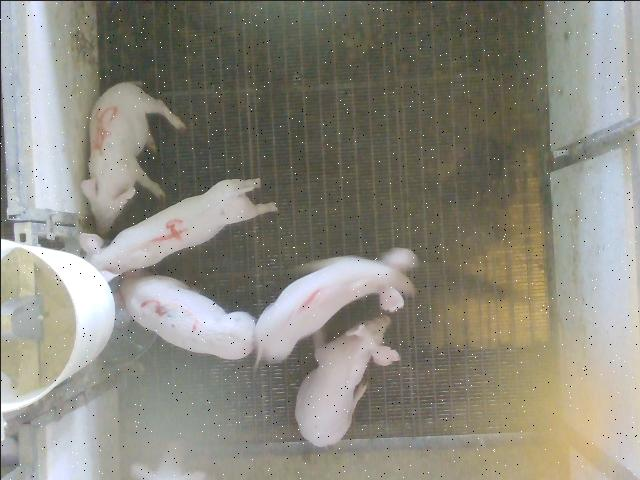pig-1: (255, 248, 416, 362)
pig-3: (119, 269, 255, 358)
pig-4: (79, 178, 276, 279)
pig-5: (80, 81, 184, 232)
